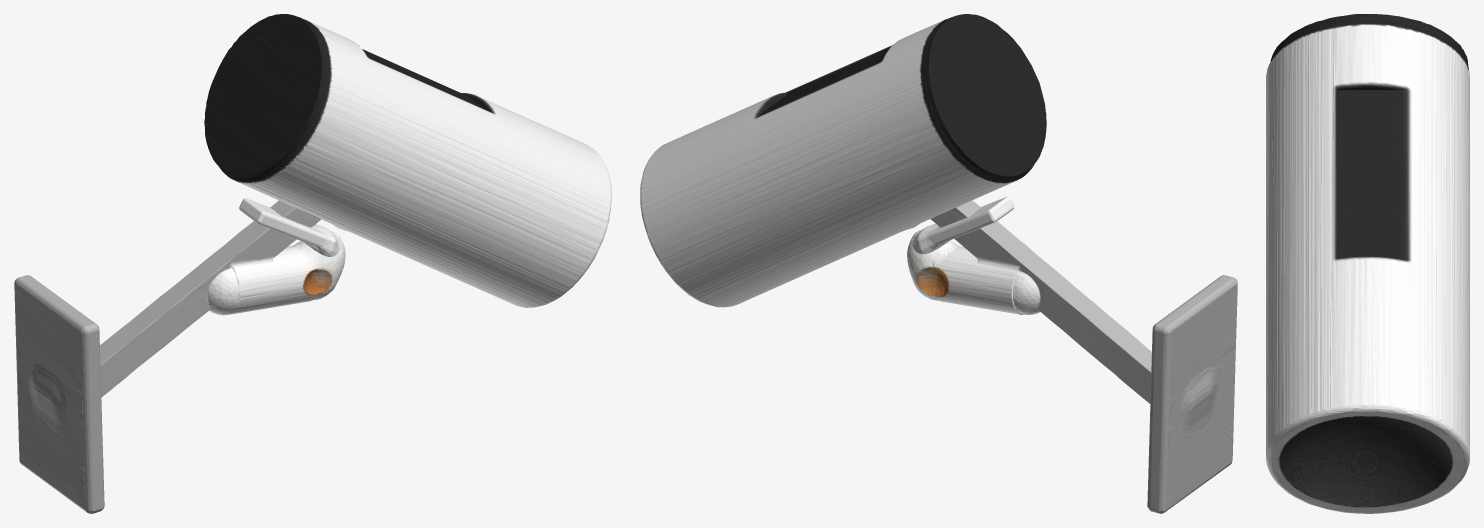
Rendered from kamera.glb.
3 renders of one model, left to right at view 1: azimuth 30°, elevation 25°; view 2: azimuth 150°, elevation 25°; view 3: azimuth 270°, elevation 25°, orthographic. The views are drawn at different scales.
Parts seen in each view (by area): view 1: 282397_23_05_24_18_27_55_0; view 2: 282397_23_05_24_18_27_55_0; view 3: 282397_23_05_24_18_27_55_0.
Boxes of the visible parts, x1,y1,x2,y2 form: 282397_23_05_24_18_27_55_0: (14, 14, 611, 513); 282397_23_05_24_18_27_55_0: (640, 14, 1237, 513); 282397_23_05_24_18_27_55_0: (1266, 14, 1469, 513).
Size of the model in its own units: 17.81 by 12.74 by 4.97.
Materials: 1 (1 with a texture image).
